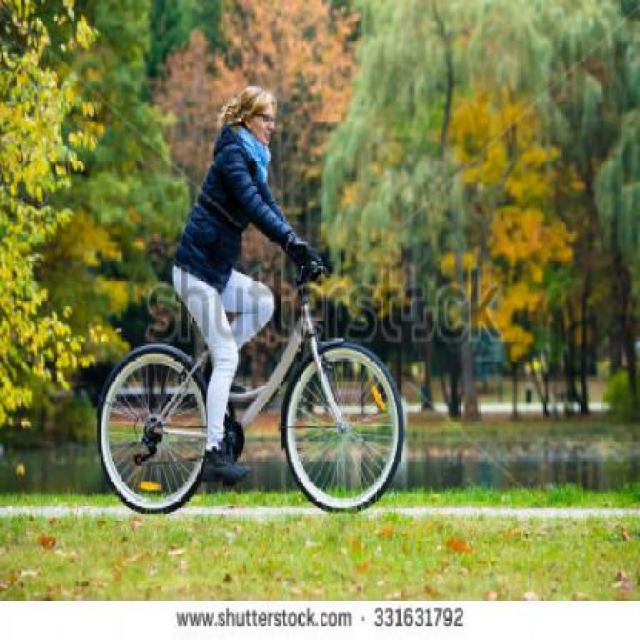car: (87, 68, 411, 520)
